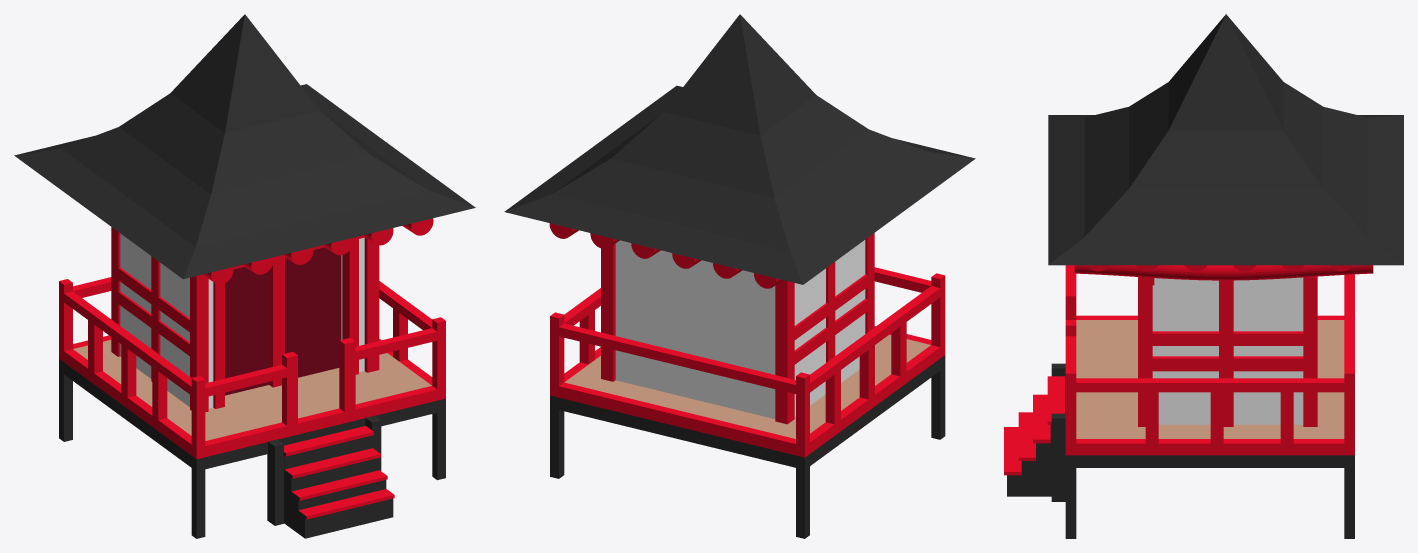
File: wutai-pagoda.fbx
3 views of the same model, side by side, from view 1: azimuth 30°, elevation 25°; view 2: azimuth 150°, elevation 25°; view 3: azimuth 270°, elevation 25° (orthographic). The views are drawn at different scales.
Parts seen in each view (by area): view 1: Plane.002, Cube.001, Cube.004, Cube.002, Cube.006, Cube.013, Cylinder, Cube.003, Cube.022, Cube.005, Cube.007; view 2: Plane.002, Cube.001, Cube.004, Cube.005, Cube.006, Cylinder, Cube.007; view 3: Plane.002, Cube.001, Cube.004, Cube.006, Cube.002, Cylinder, Cube.005, Cube.007, Cube.003, Cylinder.001.
Boxes of the visible parts, x1=… form: Plane.002: x1=14, y1=14, x2=475, y2=279; Cube.001: x1=59, y1=277, x2=445, y2=538; Cube.004: x1=120, y1=233, x2=364, y2=408; Cube.002: x1=284, y1=426, x2=394, y2=538; Cube.006: x1=114, y1=238, x2=379, y2=412; Cube.013: x1=213, y1=239, x2=358, y2=408; Cylinder: x1=202, y1=218, x2=433, y2=284; Cube.003: x1=267, y1=415, x2=381, y2=525; Cube.022: x1=269, y1=257, x2=284, y2=387; Cube.005: x1=111, y1=227, x2=120, y2=356; Cube.007: x1=151, y1=256, x2=160, y2=381; Plane.002: x1=504, y1=14, x2=975, y2=284; Cube.001: x1=550, y1=267, x2=945, y2=538; Cube.004: x1=615, y1=240, x2=865, y2=418; Cube.005: x1=601, y1=243, x2=794, y2=424; Cube.006: x1=791, y1=233, x2=874, y2=364; Cylinder: x1=549, y1=223, x2=783, y2=288; Cube.007: x1=826, y1=262, x2=835, y2=362; Plane.002: x1=1048, y1=14, x2=1403, y2=265; Cube.001: x1=1065, y1=265, x2=1354, y2=538; Cube.004: x1=1152, y1=277, x2=1303, y2=424; Cube.006: x1=1138, y1=277, x2=1311, y2=426; Cube.002: x1=1004, y1=376, x2=1064, y2=496; Cylinder: x1=1074, y1=265, x2=1373, y2=280; Cube.005: x1=1303, y1=276, x2=1317, y2=426; Cube.007: x1=1219, y1=280, x2=1233, y2=426; Cube.003: x1=1051, y1=363, x2=1065, y2=501; Cylinder.001: x1=1087, y1=265, x2=1352, y2=271.
Bounding box in the file's own units: 492 × 704 × 553.
